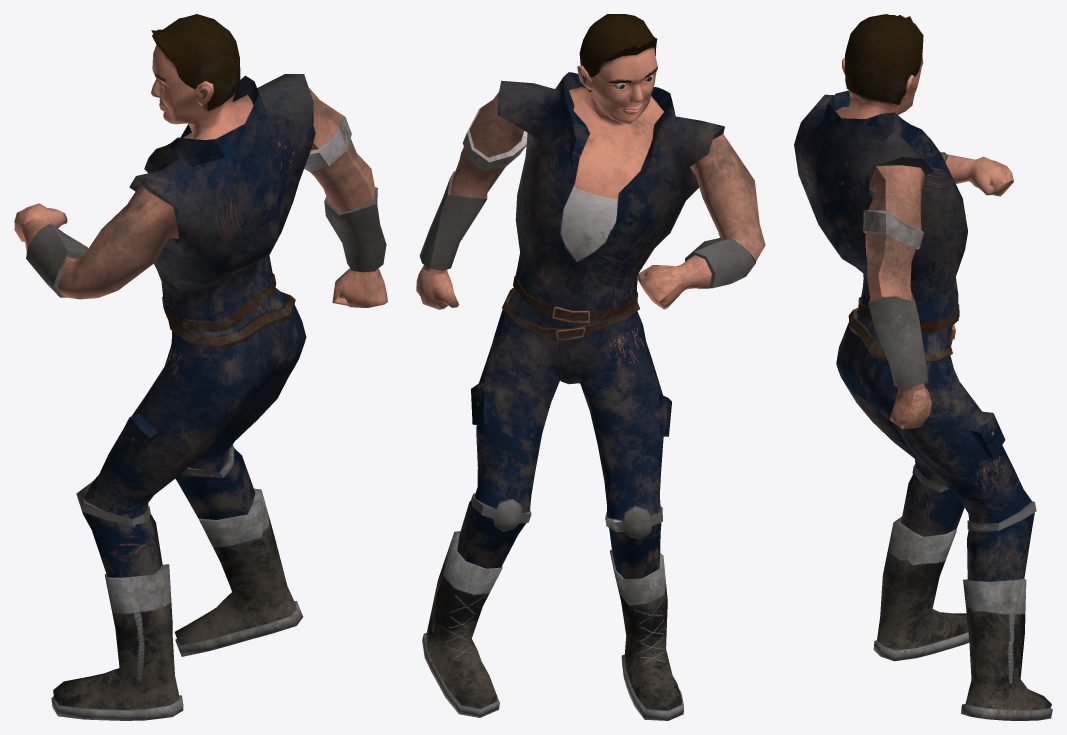
Rendered from Anim_ataque_f3_jugador.0039.obj.
3 views of the same model, side by side, from view 1: azimuth 30°, elevation 25°; view 2: azimuth 150°, elevation 25°; view 3: azimuth 270°, elevation 25° (orthographic). The views are drawn at different scales.
Visible parts, largest first — view 1: polySurface1; view 2: polySurface1; view 3: polySurface1.
Boxes of the visible parts, x1=… form: polySurface1: x1=14, y1=14, x2=387, y2=720; polySurface1: x1=416, y1=14, x2=765, y2=720; polySurface1: x1=794, y1=14, x2=1052, y2=720.
Size of the model in its own units: 4.79 by 9.36 by 3.3.
